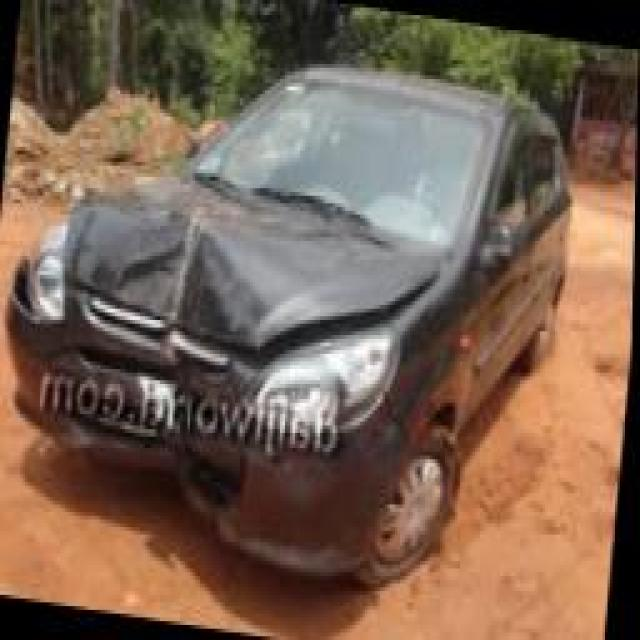Bonnet: (70, 162, 444, 340)
Bumper: (13, 263, 380, 568)
